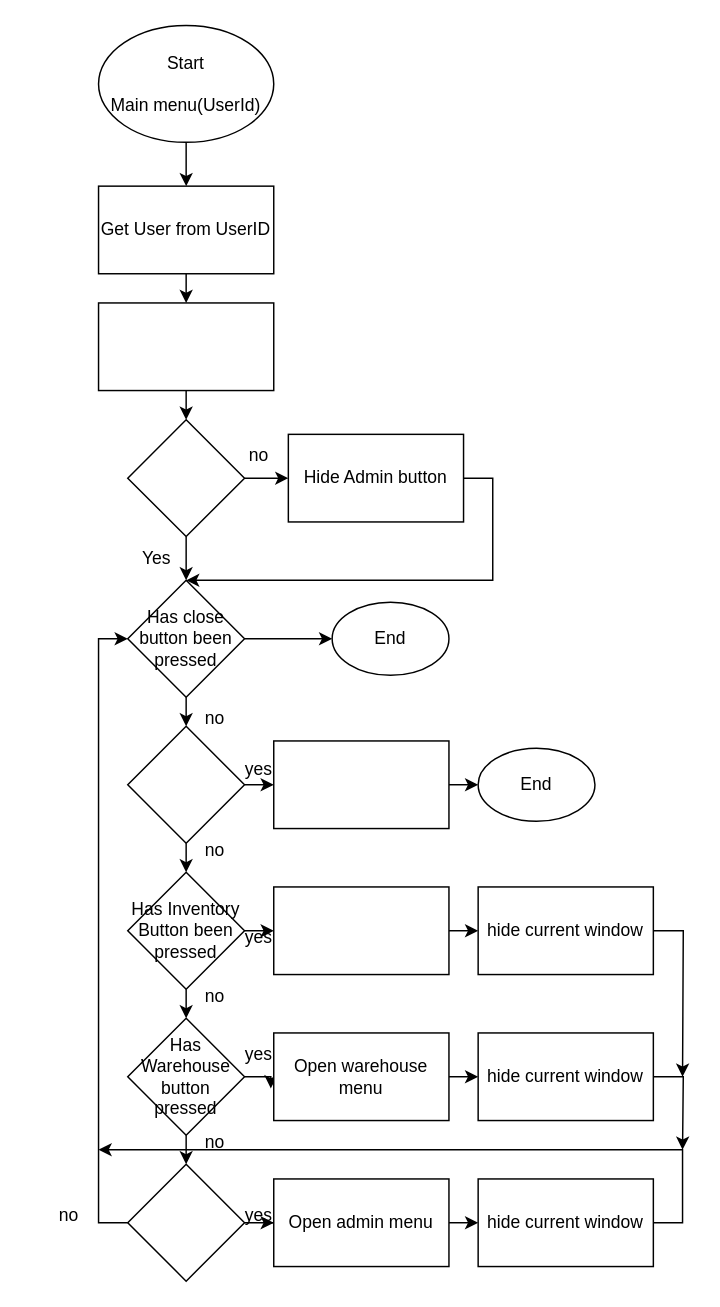
The diagram is 720 pixels wide and 1307 high, and some of its shapes have lost their labels. The box of each missing label's shape, as (x1, y1, x2, y2) in pixels:
does perms = 1: (126, 418, 245, 537)
Has Admin button been pressed: (126, 1163, 245, 1281)
Has Logout button been pressed: (126, 725, 245, 843)
Open Inventory menu: (272, 885, 449, 975)
Open login menu: (272, 739, 449, 829)
Render WIndow: (97, 301, 274, 391)
